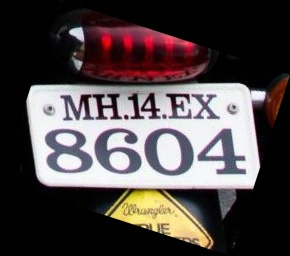character: (144, 126, 194, 176), (197, 125, 246, 174), (94, 126, 142, 176), (44, 127, 93, 175), (59, 92, 94, 122), (90, 92, 122, 120), (190, 92, 220, 120), (164, 91, 192, 120), (139, 91, 160, 120), (126, 91, 145, 120)
